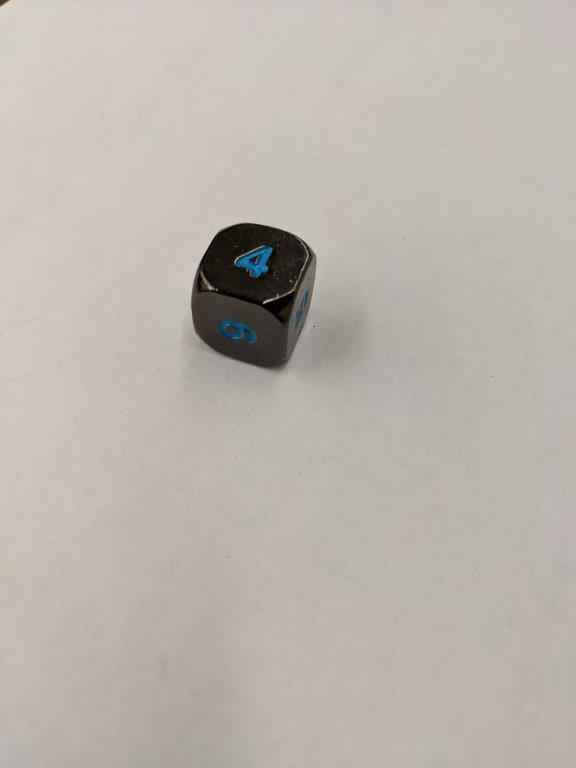d6-4: (191, 222, 320, 365)
